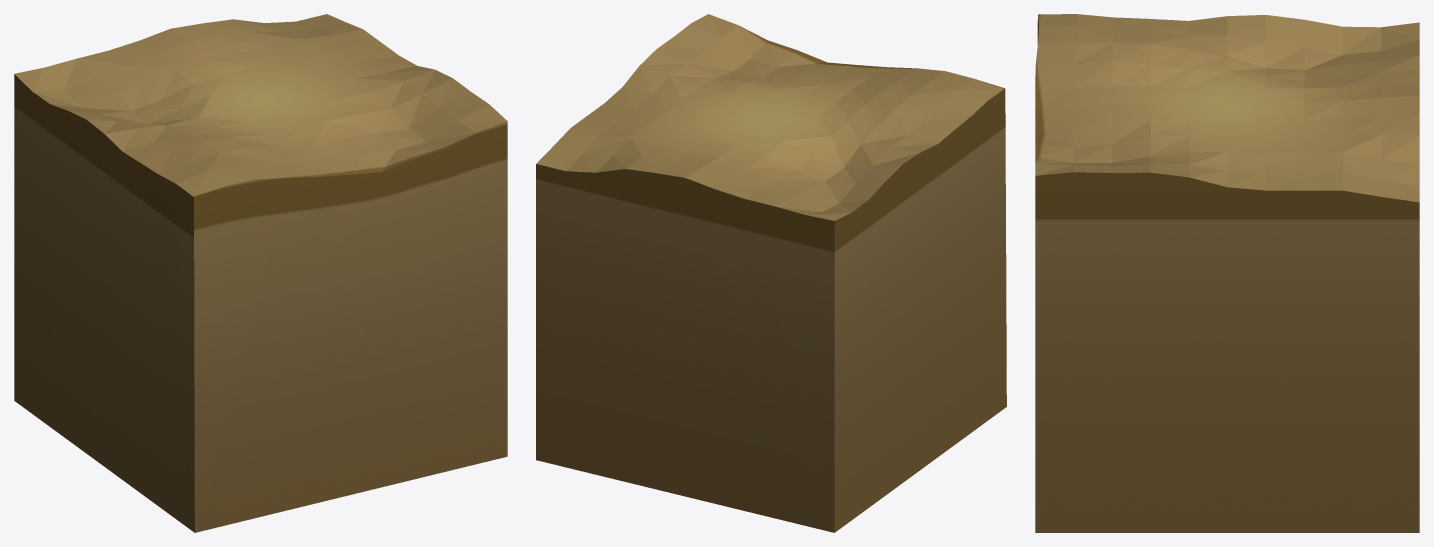
File: Environmental block 4.fbx
The picture shows the model from 3 angles, left to right: view 1: azimuth 30°, elevation 25°; view 2: azimuth 150°, elevation 25°; view 3: azimuth 270°, elevation 25°; orthographic projection. The views are drawn at different scales.
Parts seen in each view (by area): view 1: Environmental_block_4; view 2: Environmental_block_4; view 3: Environmental_block_4.
Part boxes in pixels (<box>): Environmental_block_4: <box>14,14,507,532</box>; Environmental_block_4: <box>536,14,1006,532</box>; Environmental_block_4: <box>1035,14,1419,532</box>.
Size of the model in its own units: 100 by 104 by 100.
Materials: 1 (1 with a texture image).
